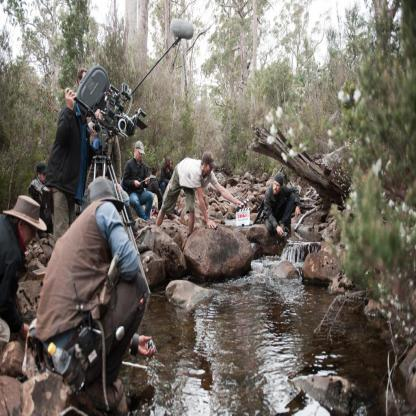face: (20, 218, 37, 251), (273, 181, 281, 196), (206, 163, 213, 176), (41, 170, 47, 184), (137, 148, 143, 162), (169, 161, 173, 170), (156, 172, 158, 178)
